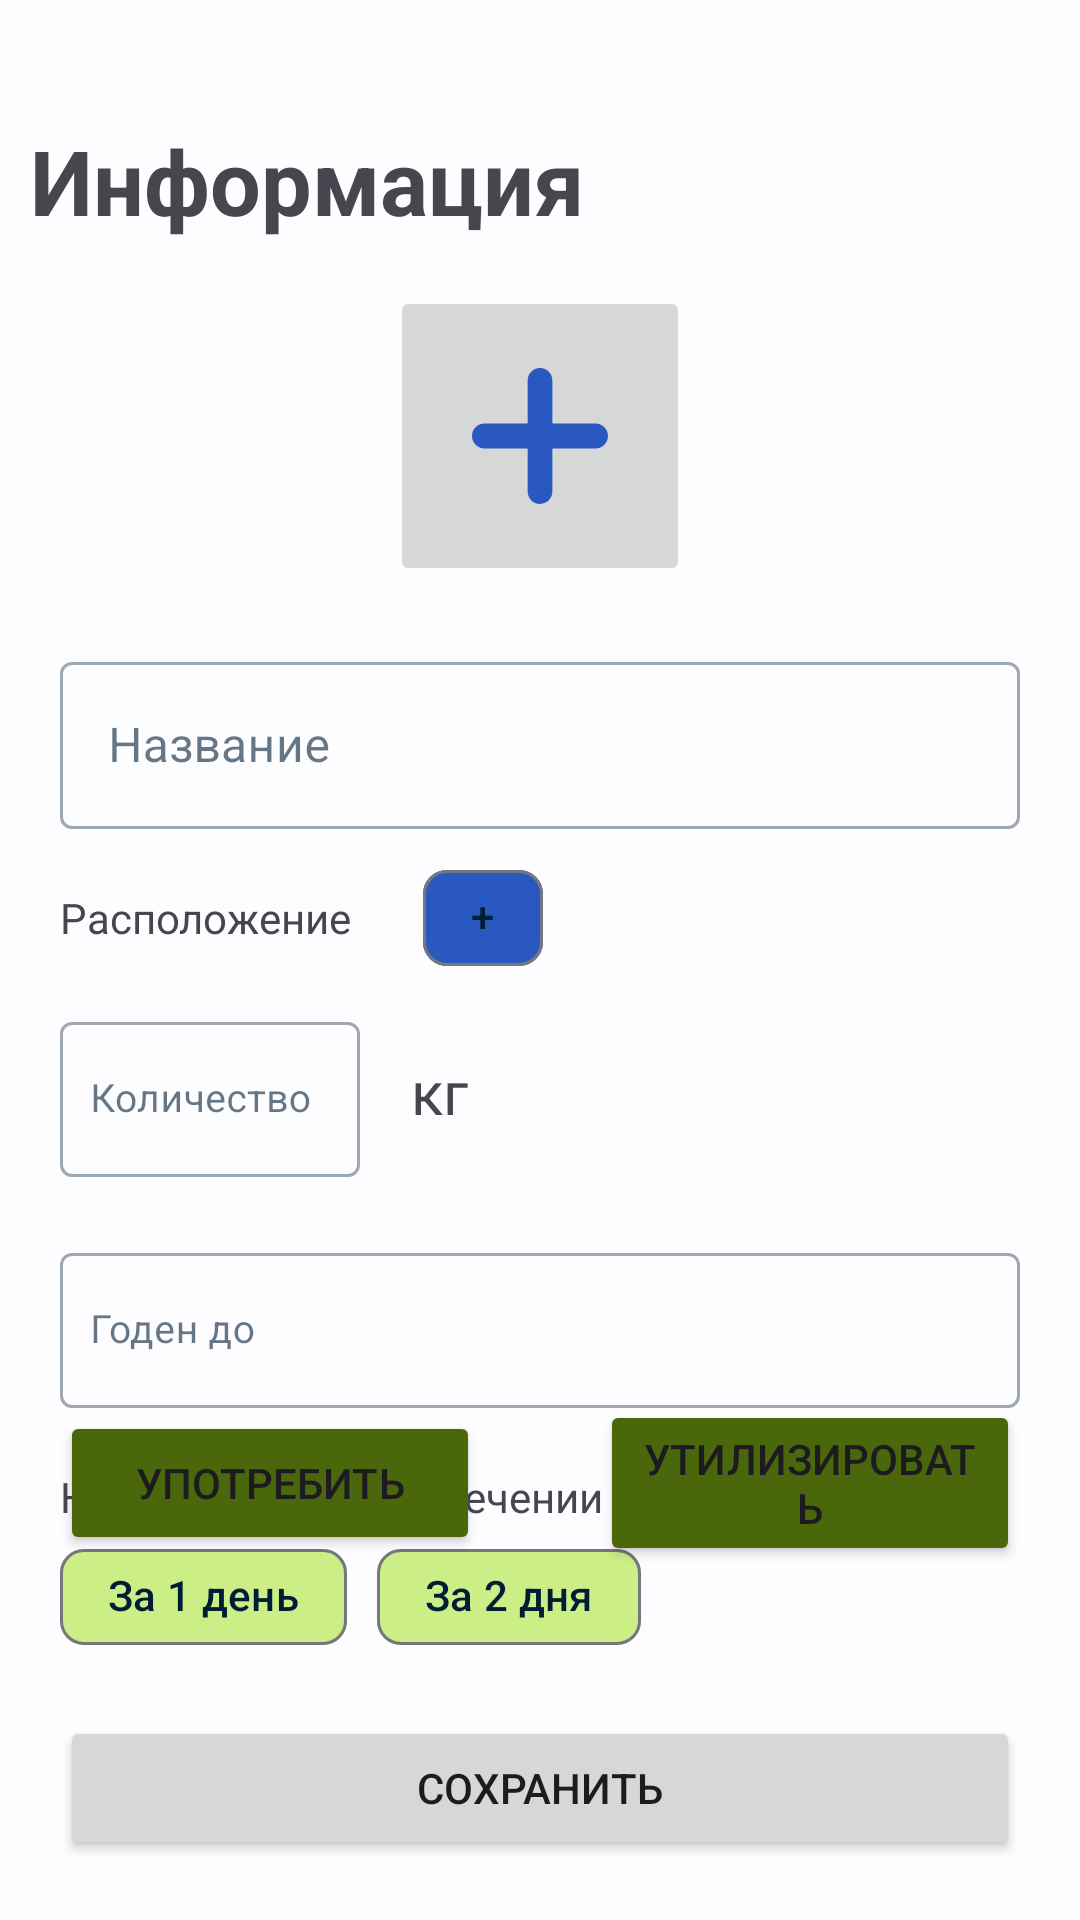

Icons on this 1080 × 1920 Android screen, each with the point to tap as (x=x, y=y):
plus: (x=540, y=436)
